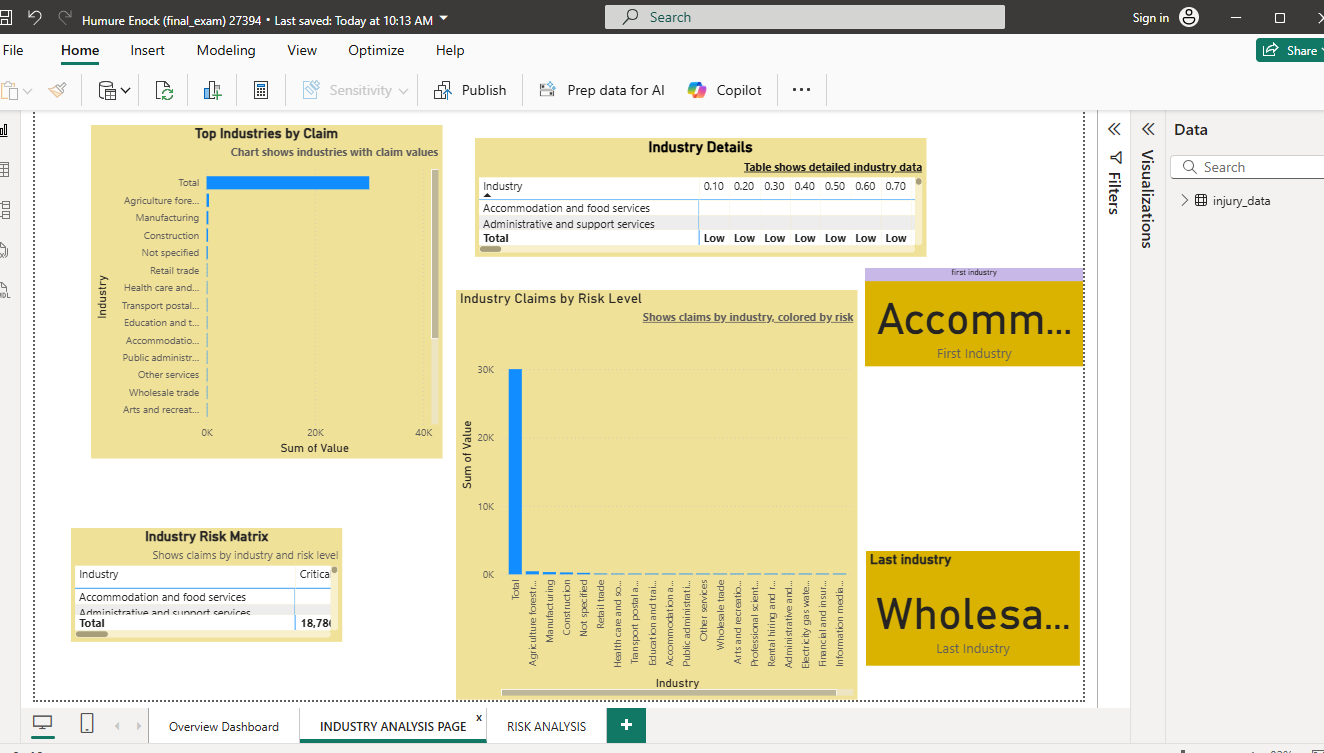

The page's visual inventory and layout, read from the dashboard file:
{"tool":"powerbi","page":{"name":" INDUSTRY ANALYSIS PAGE","canvas":[1280,720],"ordinal":1},"visuals":[{"type":"clusteredBarChart","title":"Top Industries by Claim","fields":{"Category":["injury_data.Industry"],"Y":["Sum(injury_data.Value)"]},"box":[68.6,18.6,428.6,407.1],"z":0},{"type":"pivotTable","title":"Industry Details","fields":{"Rows":["injury_data.Industry"],"Columns":["injury_data.Value"],"Values":["Min(injury_data.Risk_Level)"]},"box":[536.8,34.4,550.5,144.5],"z":1000},{"type":"pivotTable","title":"Industry Risk Matrix","fields":{"Rows":["injury_data.Industry"],"Columns":["injury_data.Risk_Level"],"Values":["Sum(injury_data.Value)"]},"box":[44.3,510,331.4,138.6],"z":2000},{"type":"clusteredColumnChart","title":"Industry Claims by Risk Level","fields":{"Category":["injury_data.Industry"],"Y":["Sum(injury_data.Value)"]},"box":[513.3,220,490,500],"z":3000},{"type":"card","title":"first industry","fields":{"Values":["Min(injury_data.Industry)"]},"box":[1013.3,193.3,266.7,120],"z":4000},{"type":"card","title":"Last industry","fields":{"Values":["Max(injury_data.Industry)"]},"box":[1013.8,538.8,261.2,140],"z":5000}]}

Visuals, with their boxes on the page's 1280x720 design canvas (x1, y1, x2, y2). These are canvas units, not pixel positions in the 1324x753 screenshot, which may show the page scaled, cropped or inside an application window:
"Top Industries by Claim" clusteredBarChart: box(69, 19, 497, 426)
"Industry Details" pivotTable: box(537, 34, 1087, 179)
"Industry Risk Matrix" pivotTable: box(44, 510, 376, 649)
"Industry Claims by Risk Level" clusteredColumnChart: box(513, 220, 1003, 720)
"first industry" card: box(1013, 193, 1280, 313)
"Last industry" card: box(1014, 539, 1275, 679)
